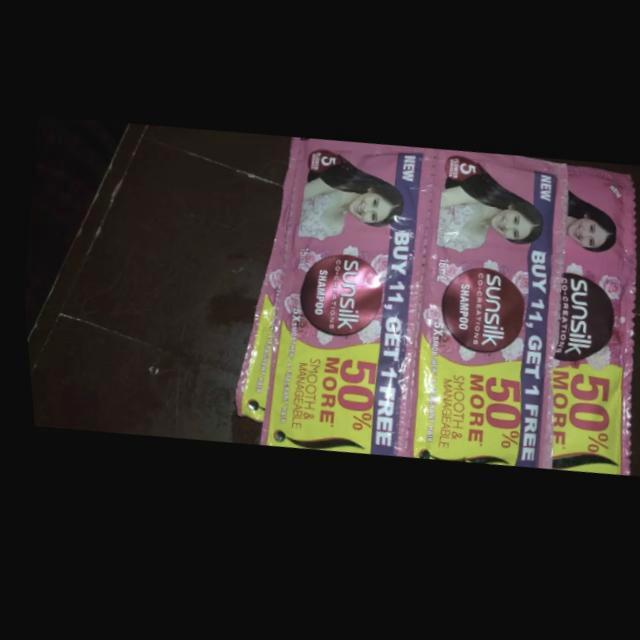plastic_sachet: (252, 141, 429, 463), (402, 154, 563, 477), (543, 173, 632, 485)
